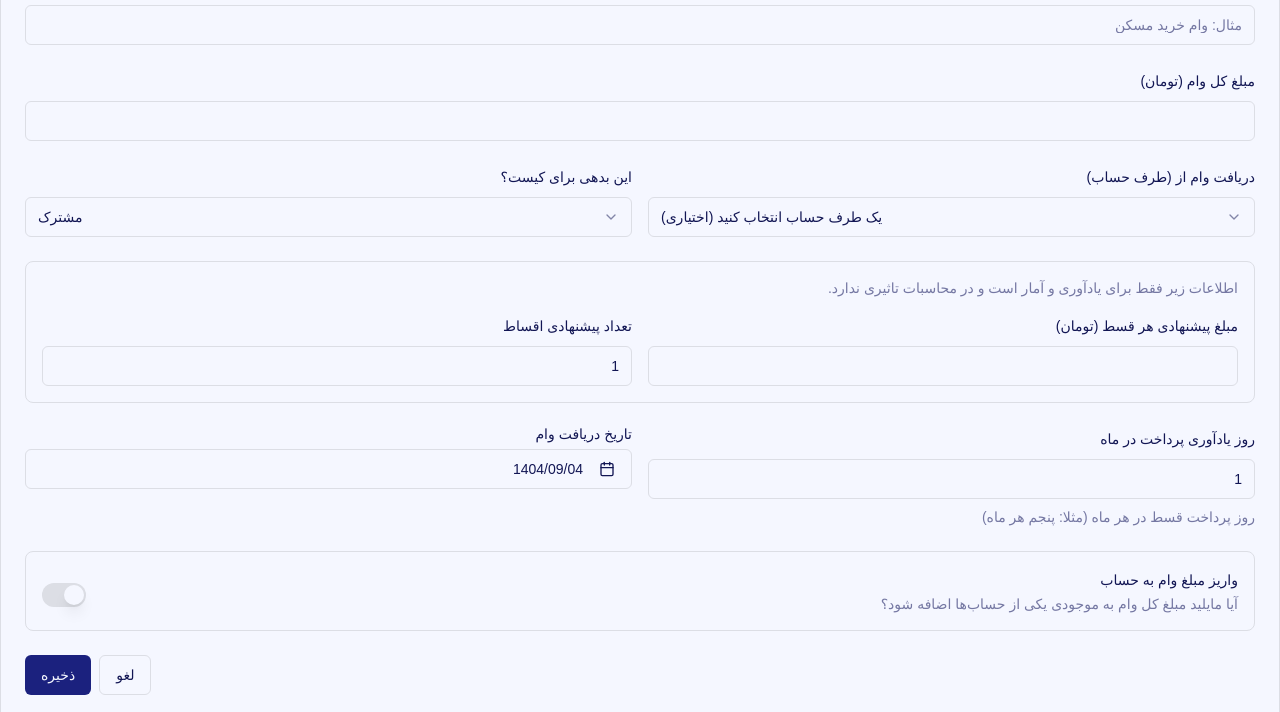
Test: LoanForm › shows validation errors for invalid data
(page scrolled)
Click the button "ذخیره".
click(58, 675)  # box top-left (25, 655), bottom-right (91, 695)
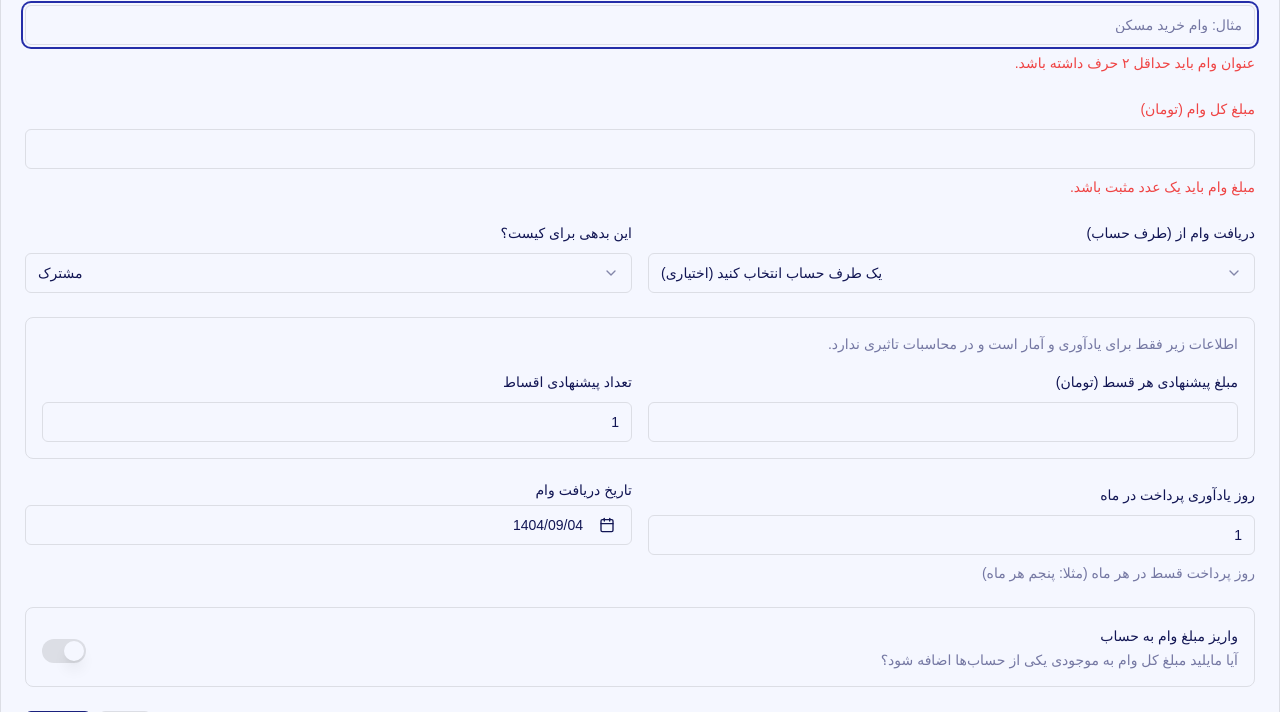
Now the text "عنوان وام باید حداقل ۲ حرف داشته باشد." is shown, box top-left (1015, 55), bottom-right (1255, 71)
Now the text "مبلغ وام باید یک عدد مثبت باشد." is shown, box top-left (1070, 179), bottom-right (1255, 195)
